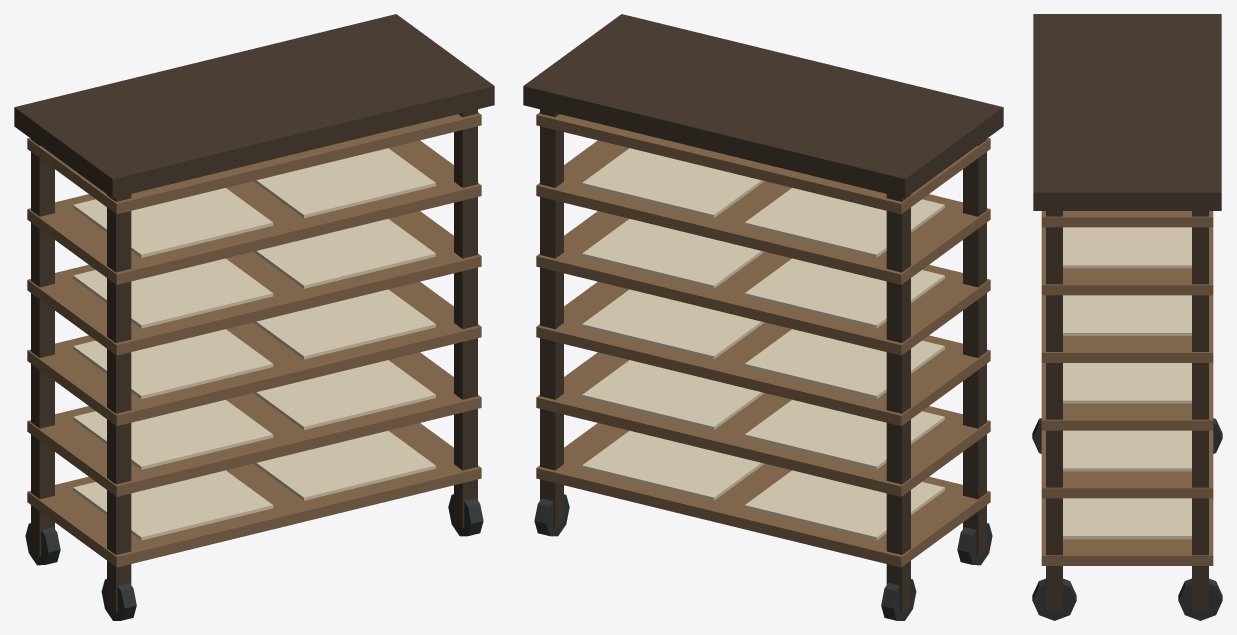
File: 08_Artwork_Drying_Rack.fbx
The picture shows the model from 3 angles, left to right: view 1: azimuth 30°, elevation 25°; view 2: azimuth 150°, elevation 25°; view 3: azimuth 270°, elevation 25°; orthographic projection. The views are drawn at different scales.
Visible parts, largest first — view 1: Structure.006; view 2: Structure.006; view 3: Structure.006.
Boxes of the visible parts, x1,y1,x2,y2 form: Structure.006: (14, 14, 494, 620); Structure.006: (523, 14, 1003, 620); Structure.006: (1032, 14, 1222, 620).
Size of the model in its own units: 249 by 282 by 112.
